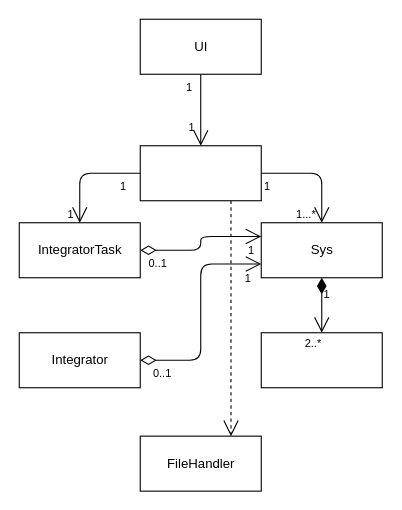
This 402x510 diagram has some shape labels left out. Each missing label, with the box of its shape:
Body: (260, 332, 382, 388)
IntegratorHandler: (139, 145, 261, 201)
